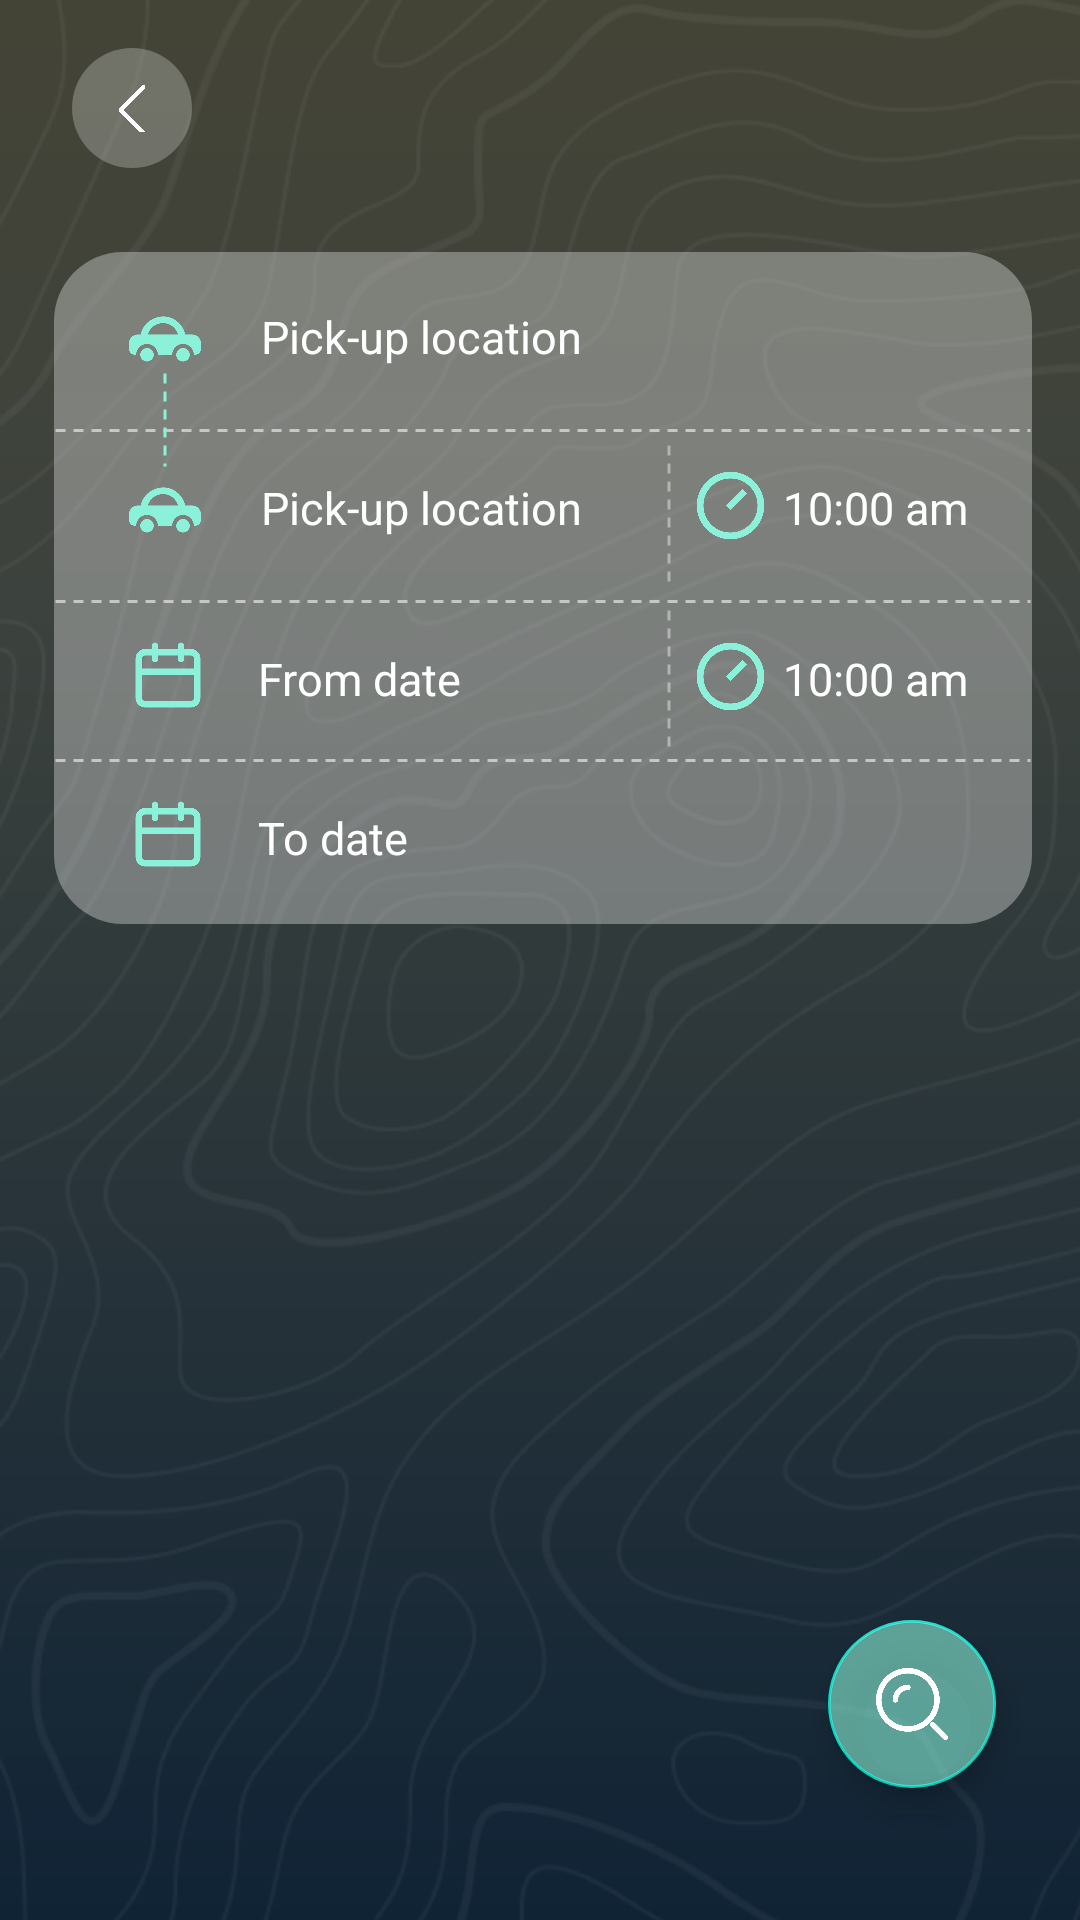

Icon bounding boxes for this 1080px x 1920px phone screenshot, format [x1, y1, x2, y2]:
arrow back: [119, 85, 145, 132]
calender: [135, 642, 201, 708], [135, 801, 201, 867]
car: [129, 316, 201, 384], [129, 465, 201, 533]
search: [828, 1620, 996, 1788]
timer: [697, 472, 764, 539], [697, 643, 764, 710]
